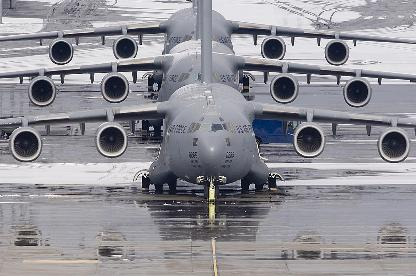C2: (0, 0, 415, 198), (0, 0, 415, 130), (0, 0, 416, 85)
